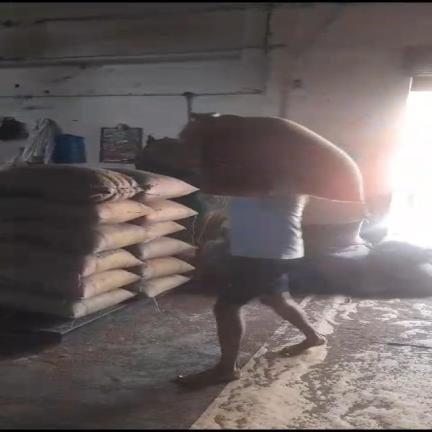Zone-Counting: (178, 113, 363, 387)
